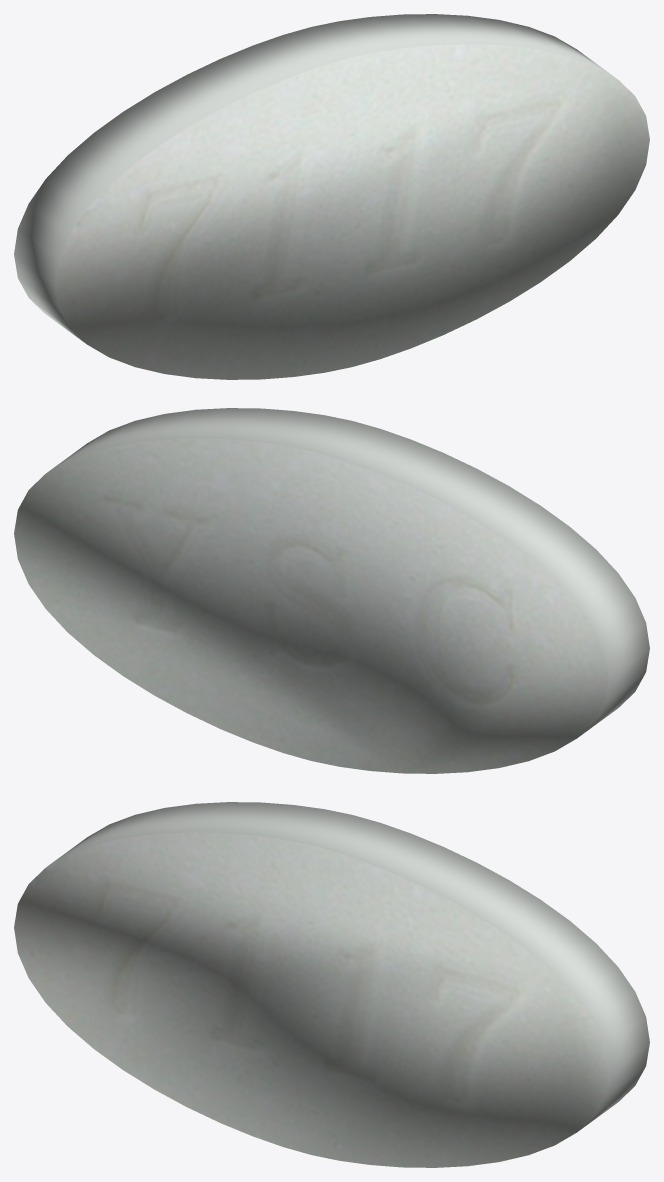
The model's file is 20140311GOPHDRGPT01974.fbx.
3 views of the same model, one above another, from view 1: azimuth 30°, elevation 25°; view 2: azimuth 150°, elevation 25°; view 3: azimuth 330°, elevation 25° (orthographic).
Parts seen in each view (by area): view 1: 貝茲圓.003; view 2: 貝茲圓.003; view 3: 貝茲圓.003.
Boxes of the visible parts, x1,y1,x2,y2 form: 貝茲圓.003: (14,14,649,379); 貝茲圓.003: (14,408,649,773); 貝茲圓.003: (14,802,649,1167).
Bounding box in the file's own units: 2.57 × 1.28 × 0.3097.
Materials: 1 (1 with a texture image).
